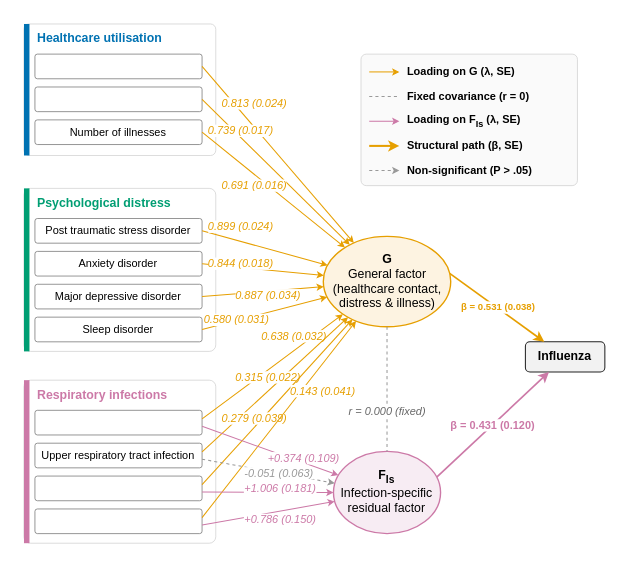
This 629x567 diagram has some shape labels left out. The centre of each missing label's shape, as x and y in pixels:
"Annual healthcare cost" belongs at pixel 118 98.
"COVID-19 (hospitalized)" belongs at pixel 118 487.
"COVID-19 (susceptibility)" belongs at pixel 118 520.
"GP help-seeking" belongs at pixel 118 66.
"Pneumonia" belongs at pixel 118 422.
